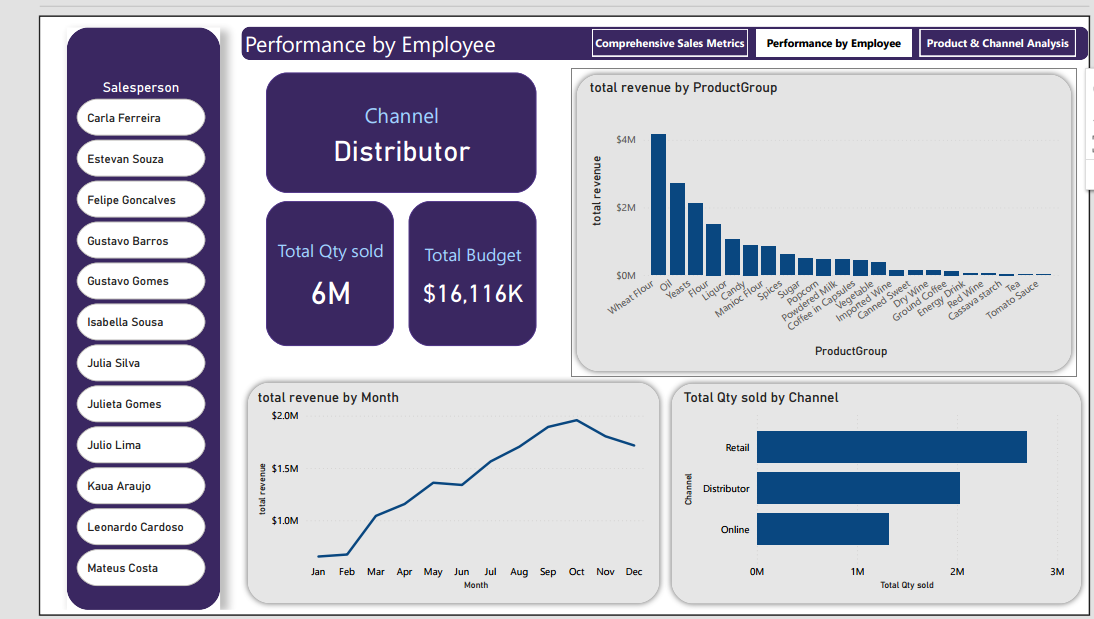

This screenshot's page, from the dashboard's own definition file:
{"tool":"powerbi","page":{"name":"Performance by Employee","canvas":[1280,720],"ordinal":1},"visuals":[{"type":"shape","box":[246.5,435.4,516.9,283.7],"z":0},{"type":"shape","box":[246.5,8,1033.9,40.8],"z":1000},{"type":"pageNavigator","box":[675.5,10.9,591.8,33.6],"z":2000},{"type":"shape","box":[649.1,58.5,618,376.8],"z":3000},{"type":"lineChart","fields":{"Category":["Calender.Year Hierarchy.Year","Calender.Year Hierarchy.Month","Calender.Year Hierarchy.Qtr"],"Y":["measure table.total revenue"]},"box":[262.5,449.6,483.3,250.9],"z":4000},{"type":"shape","box":[33.7,8.9,187.1,711.1],"z":5000},{"type":"advancedSlicerVisual","fields":{"Values":["Dim_salesperson.Salesperson"]},"box":[40.8,71.8,167.6,628.7],"z":6000},{"type":"cardVisual","fields":{"Data":["measure table.Total Qty sold"]},"box":[272.2,216.4,166.7,188],"z":7000},{"type":"cardVisual","fields":{"Data":["FactTable.Channel"]},"box":[272.2,58.5,340.5,157.8],"z":8000},{"type":"cardVisual","fields":{"Data":["measure table.Total Budget"]},"box":[446,216.4,166.7,188],"z":9000},{"type":"shape","box":[764.3,435.7,515.7,284.3],"z":10000},{"type":"columnChart","fields":{"Y":["measure table.total revenue"],"Category":["product.ProductGroup"]},"box":[666.8,71.8,581.7,344.9],"z":11000},{"type":"barChart","fields":{"Category":["FactTable.Channel"],"Y":["measure table.Total Qty sold"]},"box":[781.8,450,474.5,250.9],"z":12000},{"type":"textbox","box":[246.4,4.5,446.4,53.6],"z":12001}]}

Visuals, with their boxes in screenshot pixels (x1, y1, x2, y2), scaled from the page's 1280x720 canvas onto the 1094x619 screenshot:
shape: left=211, top=374, right=652, bottom=618
shape: left=211, top=7, right=1093, bottom=42
pageNavigator: left=577, top=9, right=1083, bottom=38
shape: left=555, top=50, right=1083, bottom=374
lineChart - Calender.Year Hierarchy.Year x Calender.Year Hierarchy.Month: left=224, top=387, right=637, bottom=602
shape: left=29, top=8, right=189, bottom=618
advancedSlicerVisual - Dim_salesperson.Salesperson: left=35, top=62, right=178, bottom=602
cardVisual - measure table.Total Qty sold: left=233, top=186, right=375, bottom=348
cardVisual - FactTable.Channel: left=233, top=50, right=524, bottom=186
cardVisual - measure table.Total Budget: left=381, top=186, right=524, bottom=348
shape: left=653, top=375, right=1093, bottom=618
columnChart - measure table.total revenue x product.ProductGroup: left=570, top=62, right=1067, bottom=358
barChart - FactTable.Channel x measure table.Total Qty sold: left=668, top=387, right=1074, bottom=603
textbox: left=211, top=4, right=592, bottom=50
